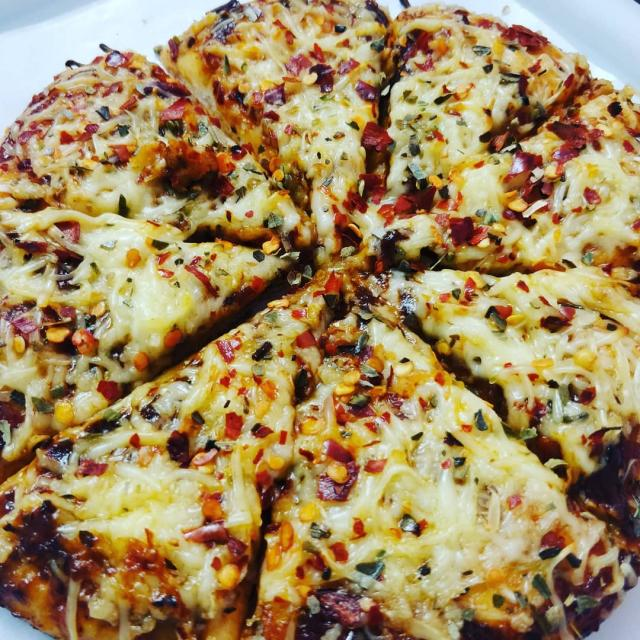pizza: (0, 0, 640, 640)
